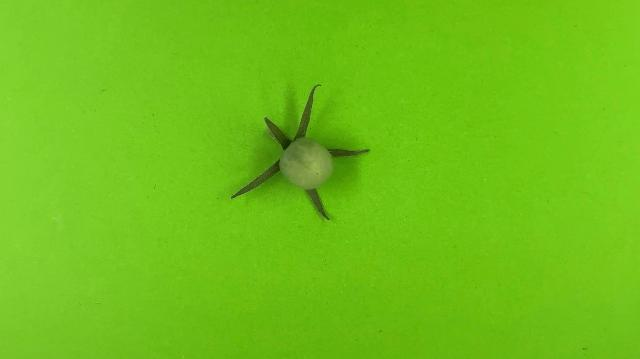Fruit Maturation: (278, 136, 336, 190)
